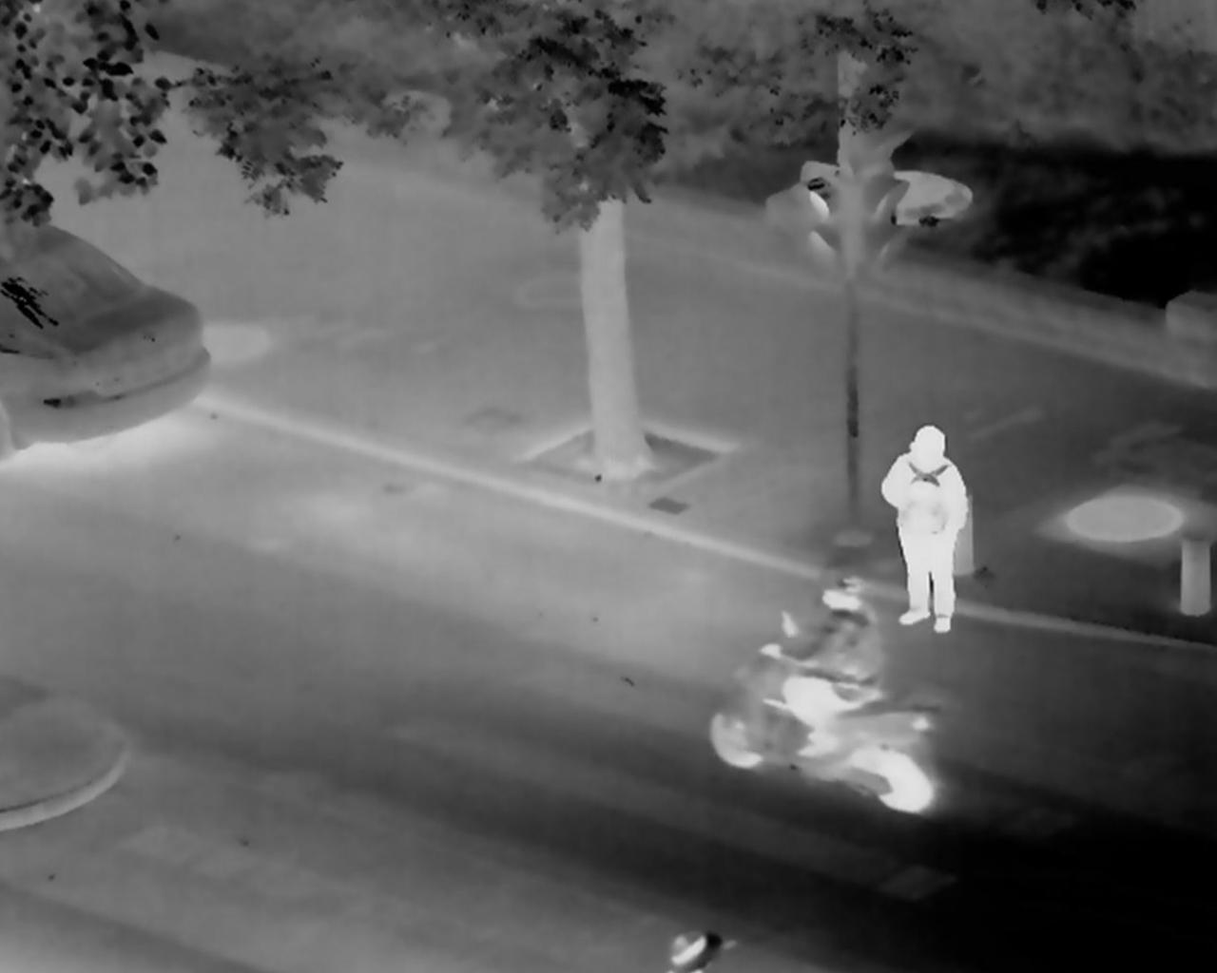person: (770, 576, 879, 766), (881, 427, 971, 639)
